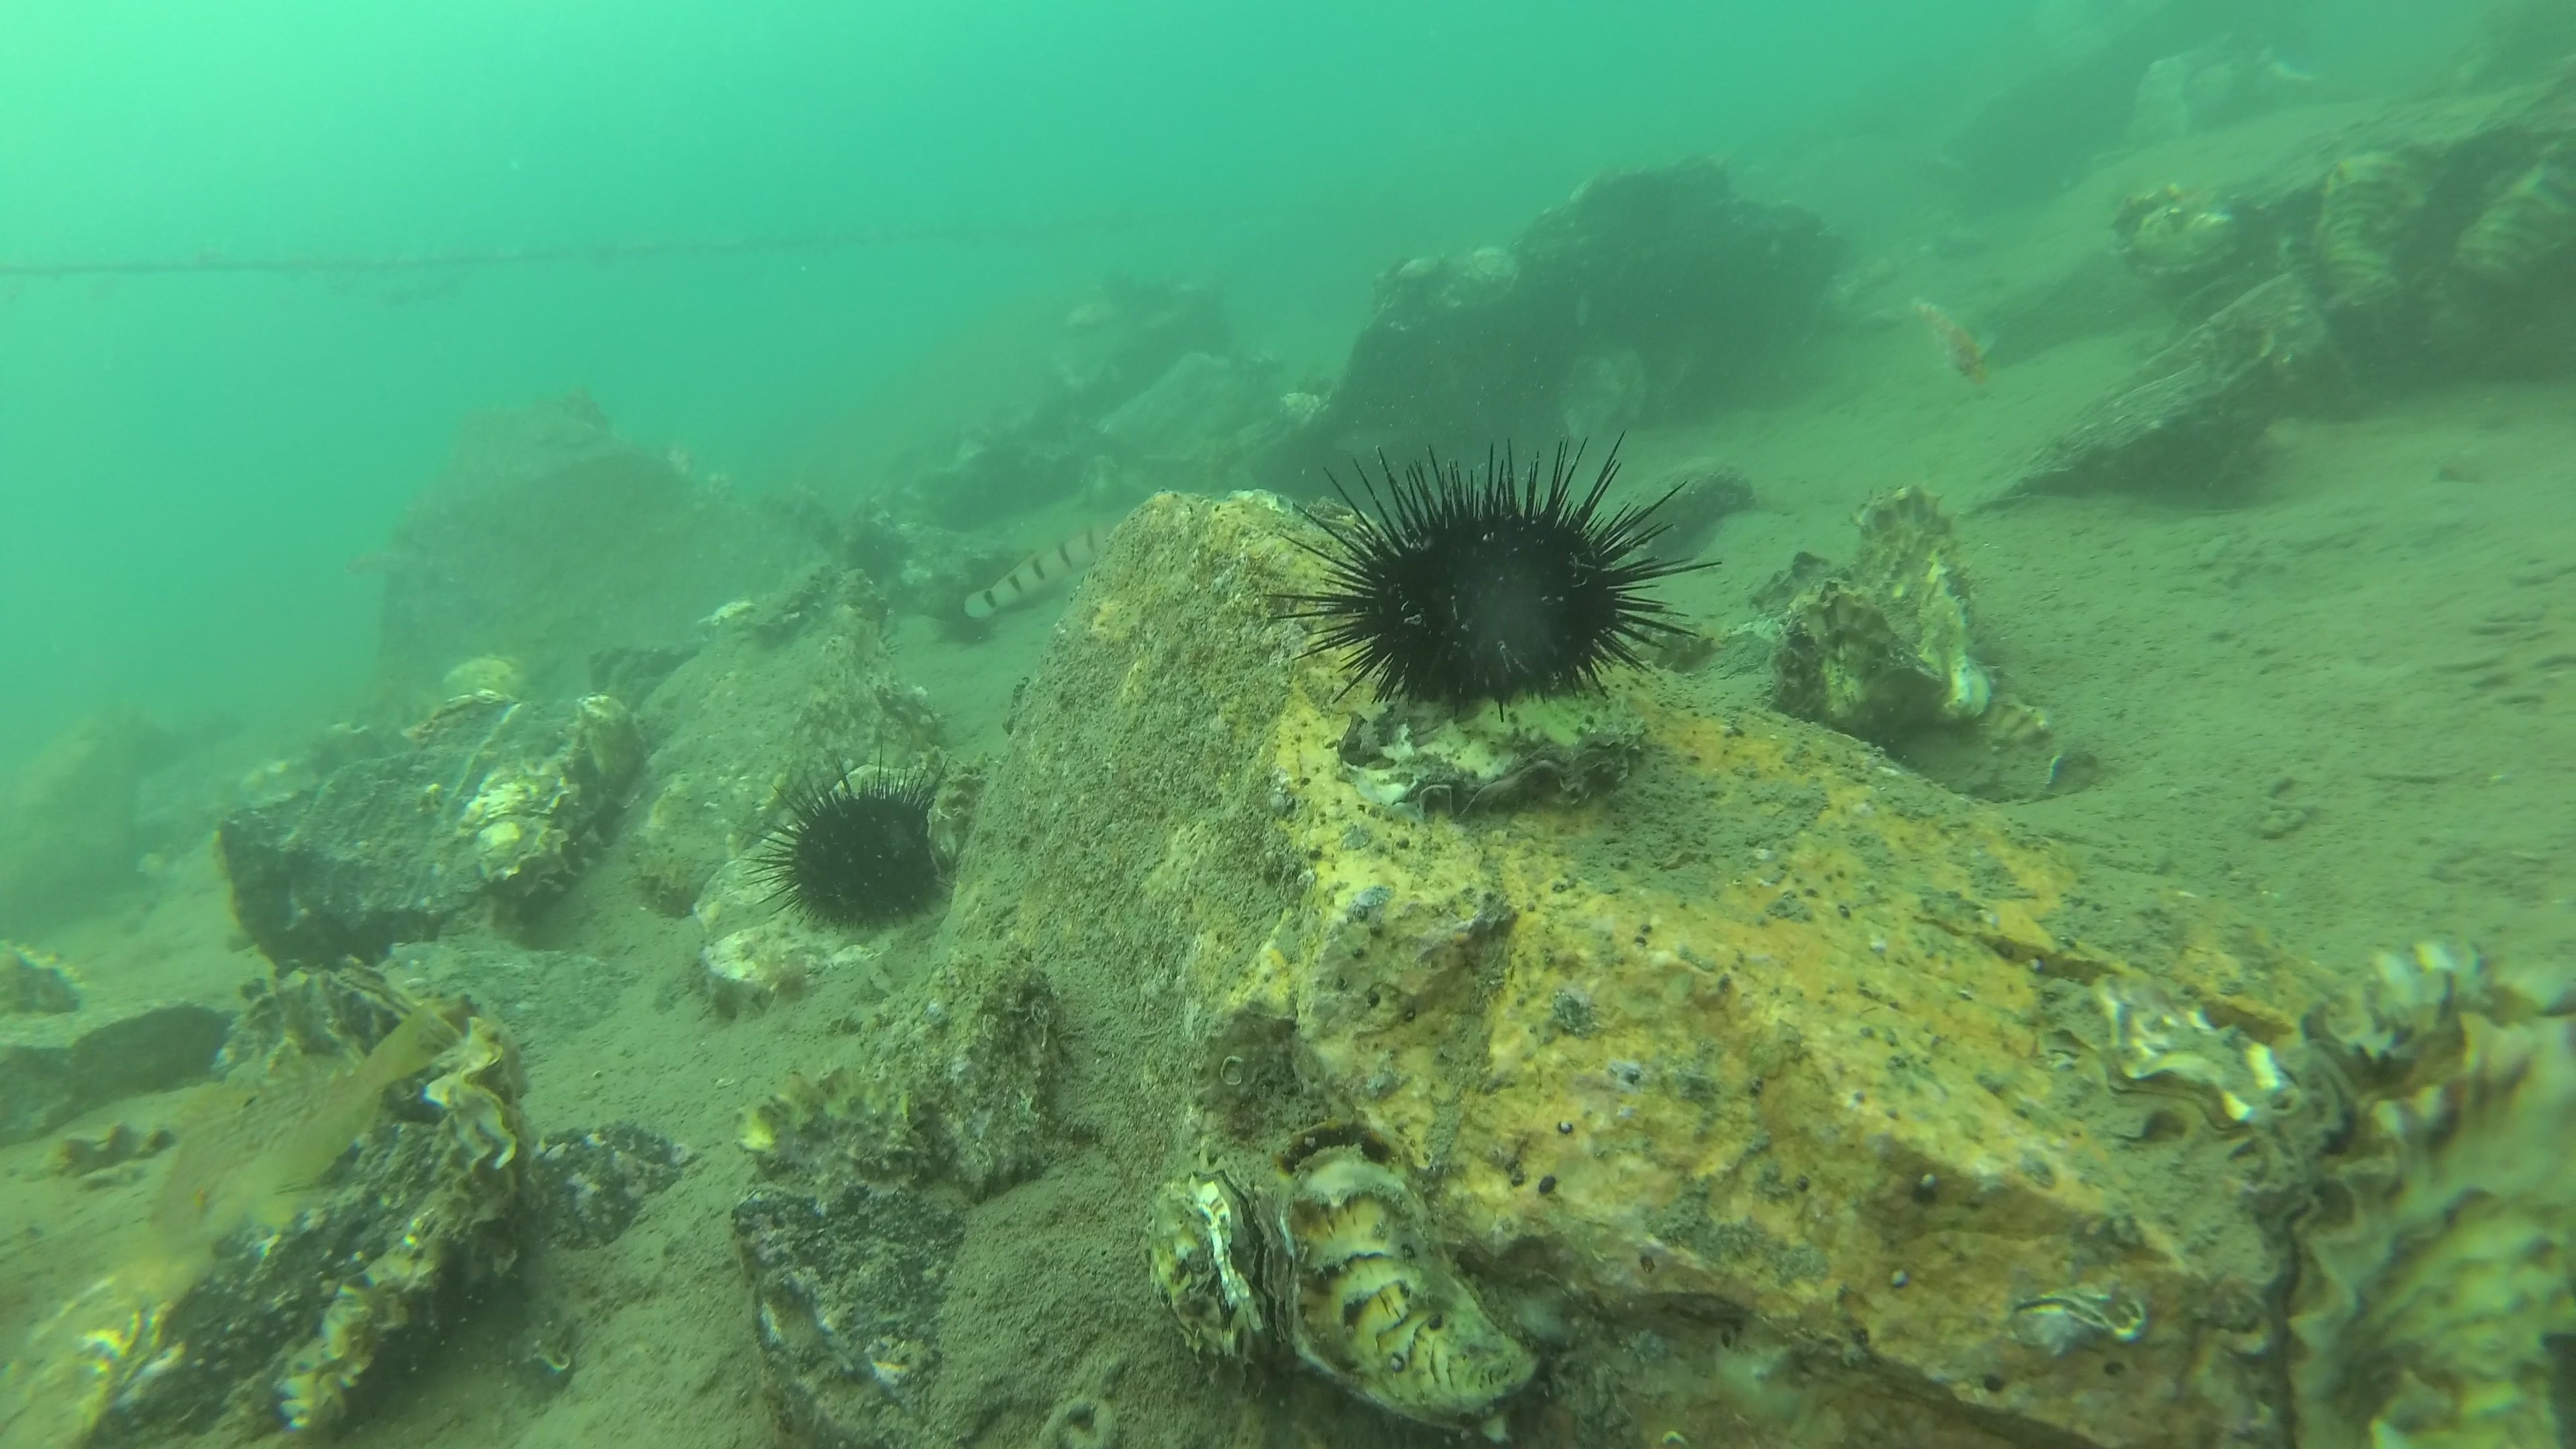echinus: (1263, 428, 1723, 722), (736, 738, 957, 934)
